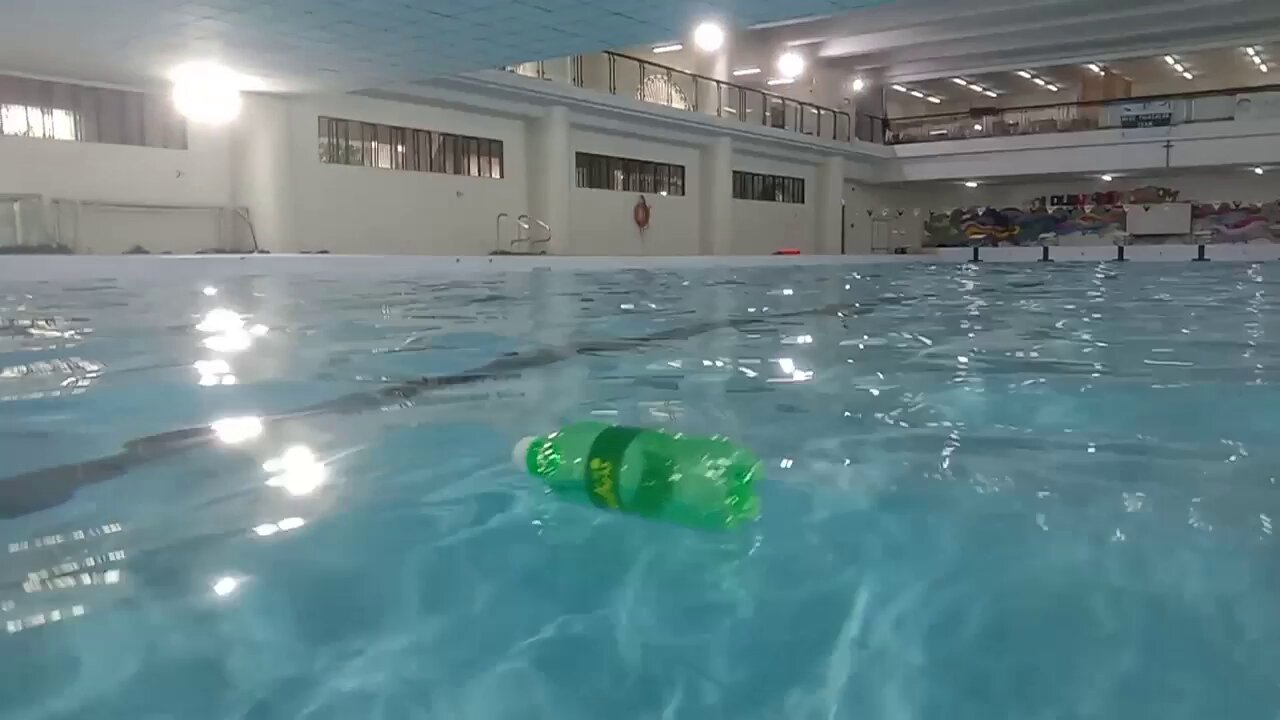plastic_bottle: (512, 422, 763, 532)
